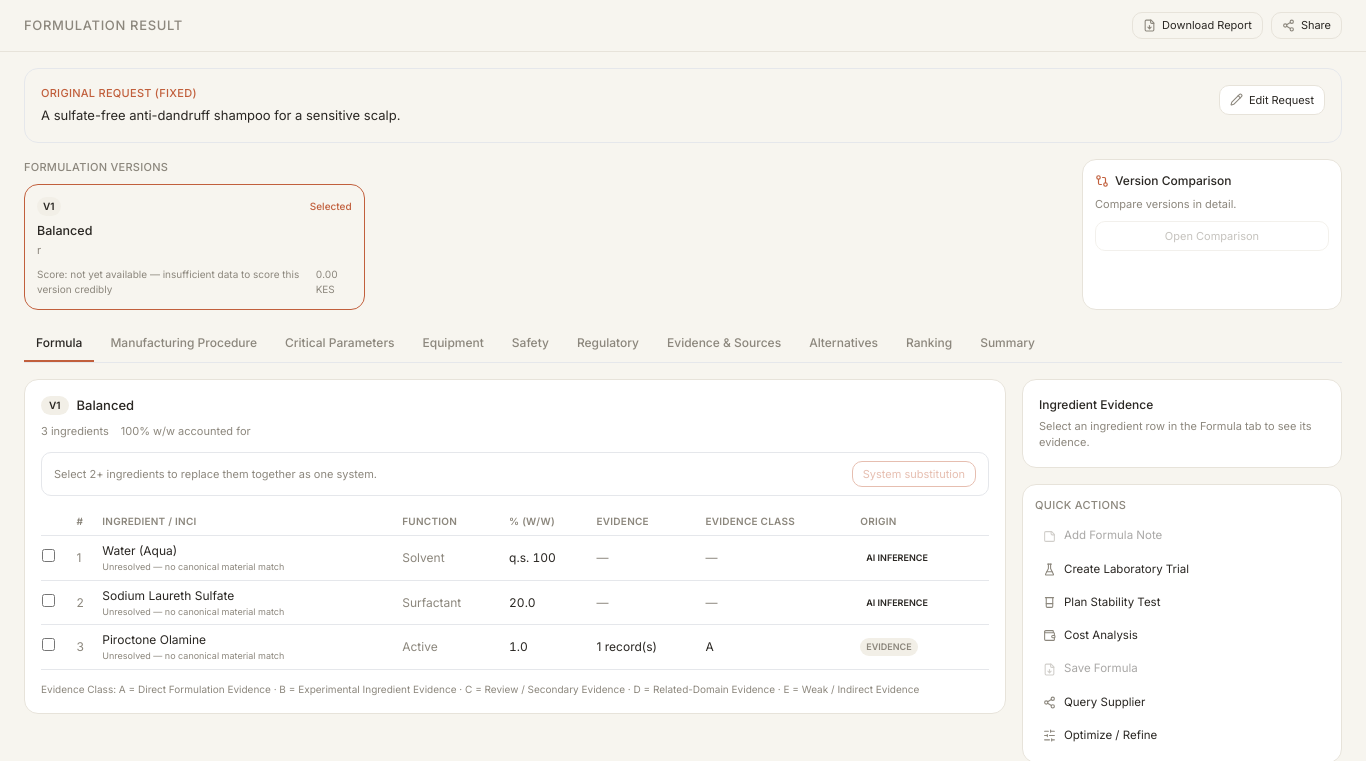
FormulationResultPage — Session 4 provenance/origin/mass-balance/corpus wiring › selecting an evidence-backed ingredient shows the real observed range/median/confidence
This screenshot has width=1366, height=761.
Expected: the text "Piroctone Olamine" is shown, [102,632,206,647]
Click the cell "Piroctone Olamine Unresolved — no canonical material match" at {"x": 154, "y": 640}, box [101,625,401,669]
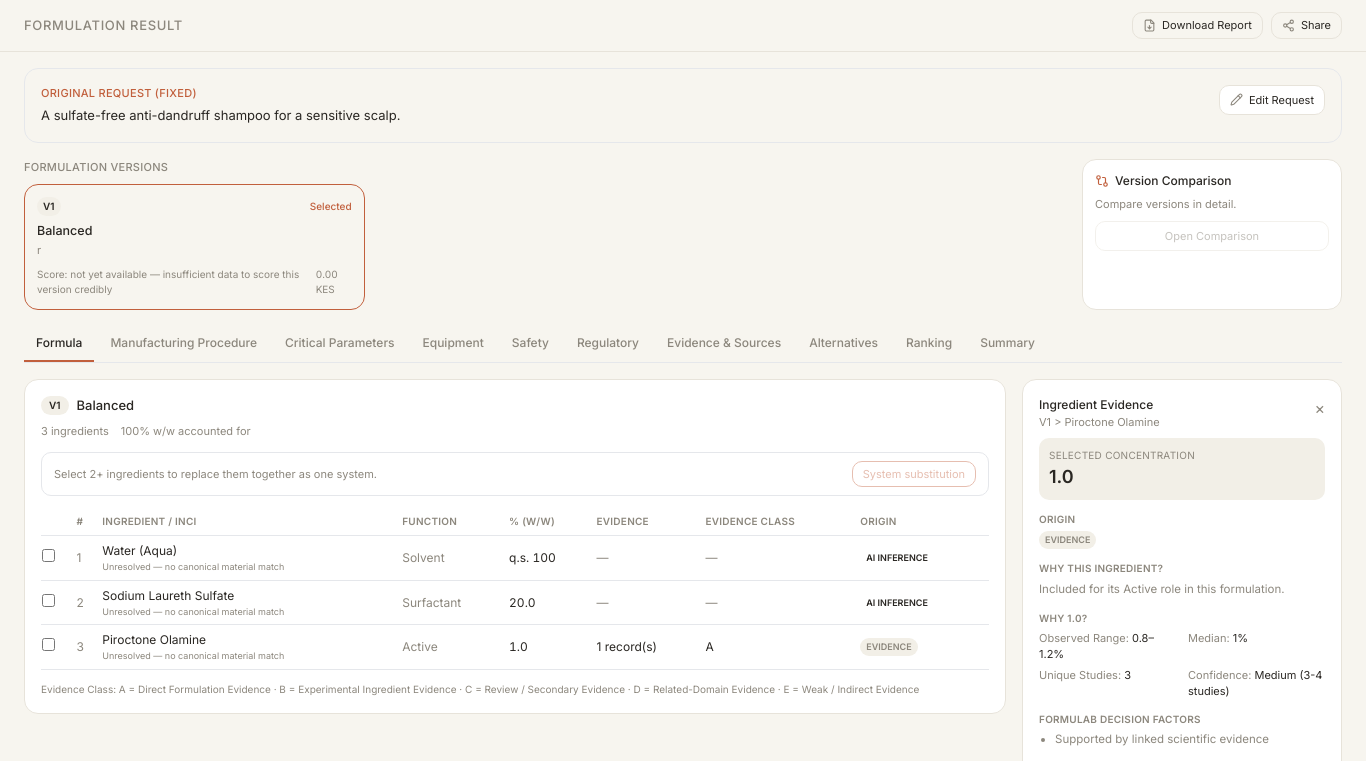
Now the text "0.8–1.2%" is shown, box [1039,631,1154,661]
Now the text "1%" is shown, box [1188,631,1248,645]
